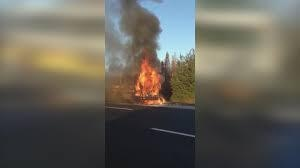fire: (132, 52, 171, 105)
